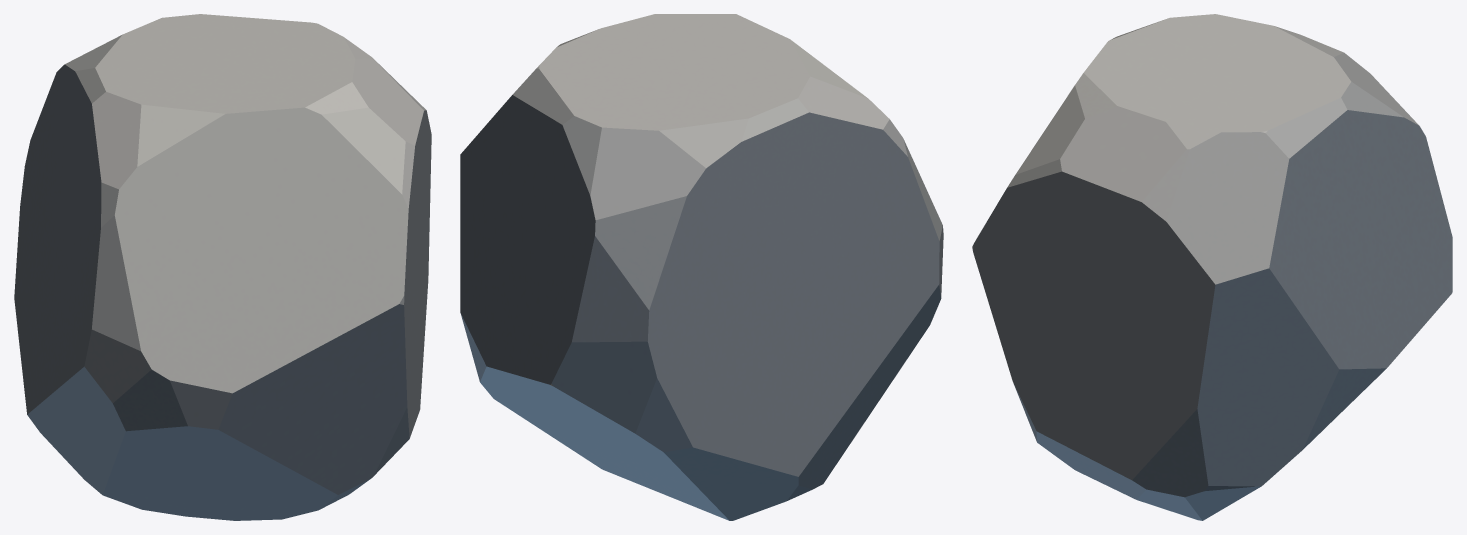
The model's file is PUSHILIN_boulder.gltf.
The picture shows the model from 3 angles, left to right: view 1: azimuth 30°, elevation 25°; view 2: azimuth 150°, elevation 25°; view 3: azimuth 270°, elevation 25°; orthographic projection. The views are drawn at different scales.
Visible parts, largest first — view 1: node-0; view 2: node-0; view 3: node-0.
Boxes of the visible parts, left/top/right/bottom form: node-0: left=14, top=14, right=431, bottom=520; node-0: left=460, top=14, right=943, bottom=520; node-0: left=972, top=14, right=1452, bottom=520.
Size of the model in its own units: 1.32 by 1.34 by 1.4.
1 material, 1 textured.
